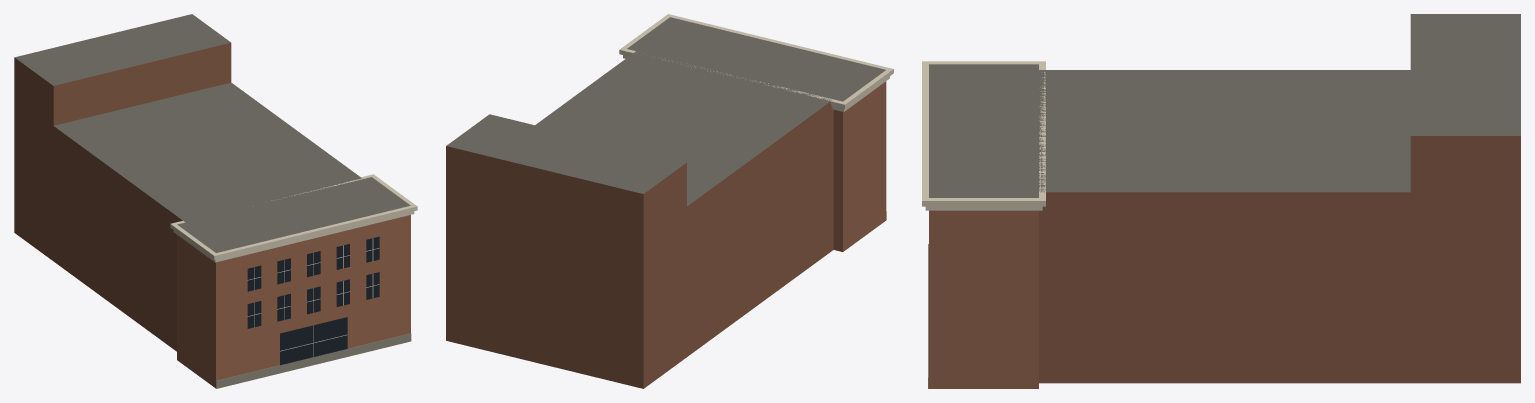
The model's file is kempner-theatre-1913.glb.
3 views of the same model, side by side, from view 1: azimuth 30°, elevation 25°; view 2: azimuth 150°, elevation 25°; view 3: azimuth 270°, elevation 25° (orthographic). The views are drawn at different scales.
Visible parts, largest first — view 1: kempner_roof, kempner_brick2, kempner_brick, kempner_glass, kempner_stone, kempner_base, kempner_sash; view 2: kempner_brick2, kempner_roof, kempner_brick, kempner_stone; view 3: kempner_brick2, kempner_roof, kempner_brick, kempner_stone.
Boxes of the visible parts, x1,y1,x2,y2 form: kempner_roof: [15, 14, 410, 252]; kempner_brick2: [14, 42, 231, 351]; kempner_brick: [177, 215, 410, 388]; kempner_glass: [247, 236, 379, 365]; kempner_stone: [170, 174, 417, 262]; kempner_base: [216, 333, 411, 388]; kempner_sash: [247, 238, 379, 356]; kempner_brick2: [446, 101, 833, 388]; kempner_roof: [446, 17, 885, 206]; kempner_brick: [833, 81, 886, 251]; kempner_stone: [619, 14, 893, 111]; kempner_brick2: [1039, 136, 1520, 383]; kempner_roof: [929, 14, 1520, 197]; kempner_brick: [929, 210, 1038, 388]; kempner_stone: [922, 61, 1045, 210].
Bounding box in the file's own units: 24 × 19.8 × 43.5.
